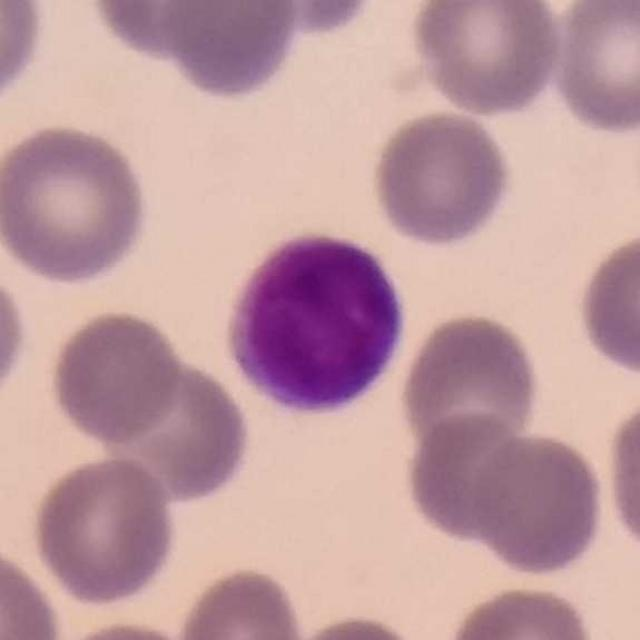Lymphocyte: (220, 239, 403, 418)
